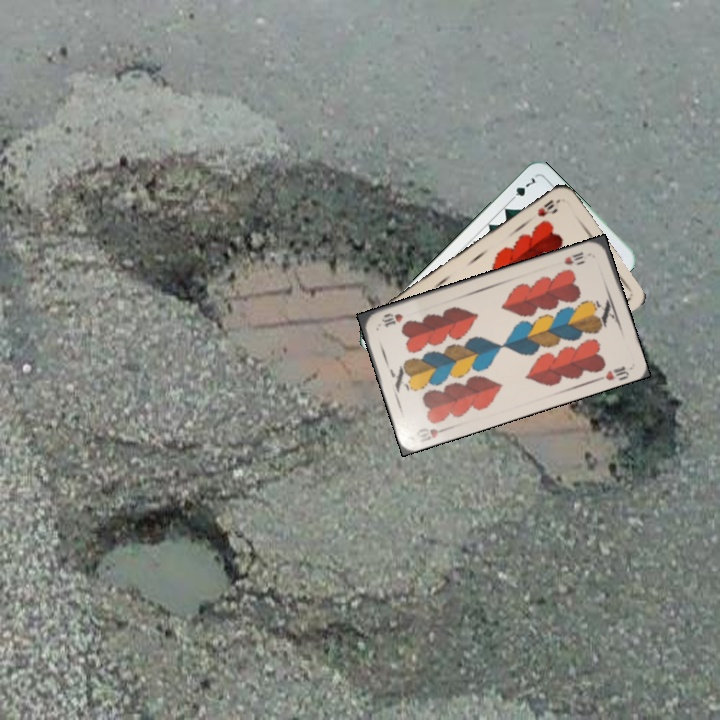G7: (505, 173, 538, 205)
H10: (412, 422, 452, 445), (533, 196, 557, 220), (560, 248, 586, 268)
